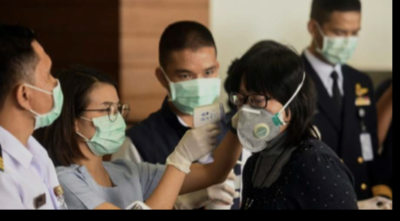with_mask: (230, 88, 282, 152), (167, 61, 222, 115), (82, 98, 127, 158), (31, 61, 63, 129), (319, 24, 358, 64)
